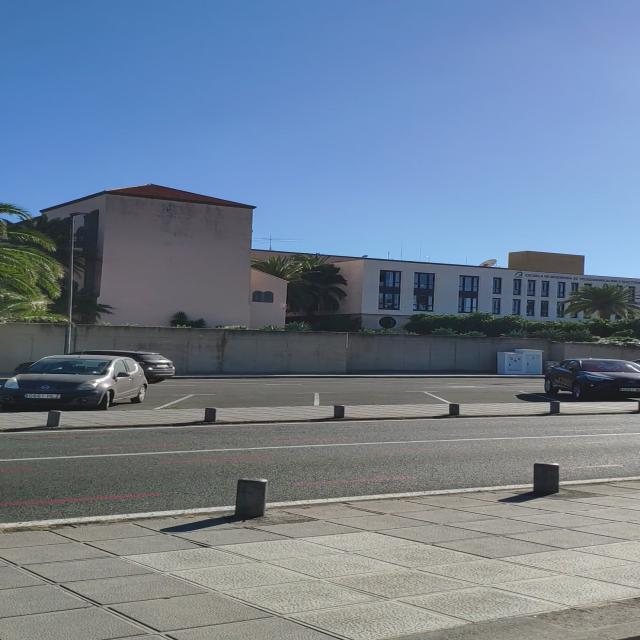Palm-Trees: (566, 282, 640, 322)
